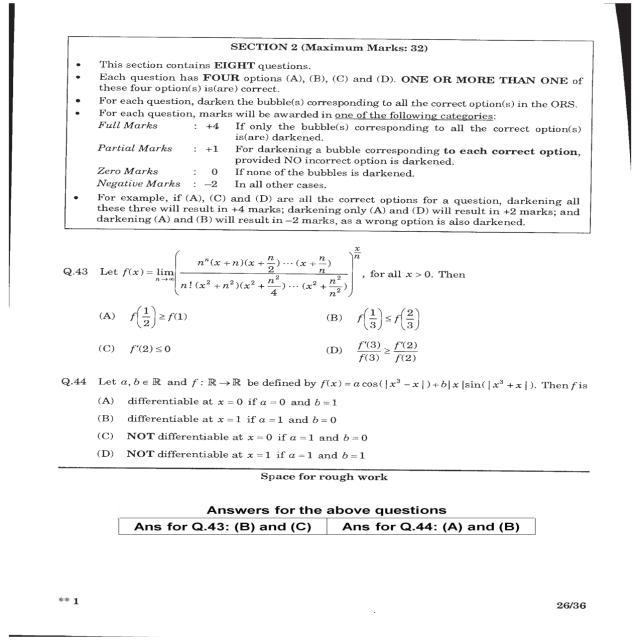Answer_Block: (32, 394, 612, 466), (32, 304, 614, 370)
Instruction: (66, 37, 590, 231)
Question_Answer_Block: (31, 240, 614, 372), (32, 373, 612, 468)
Question_Block: (32, 243, 612, 302), (34, 373, 614, 391)
Question_Paper_Area: (31, 21, 614, 575)
